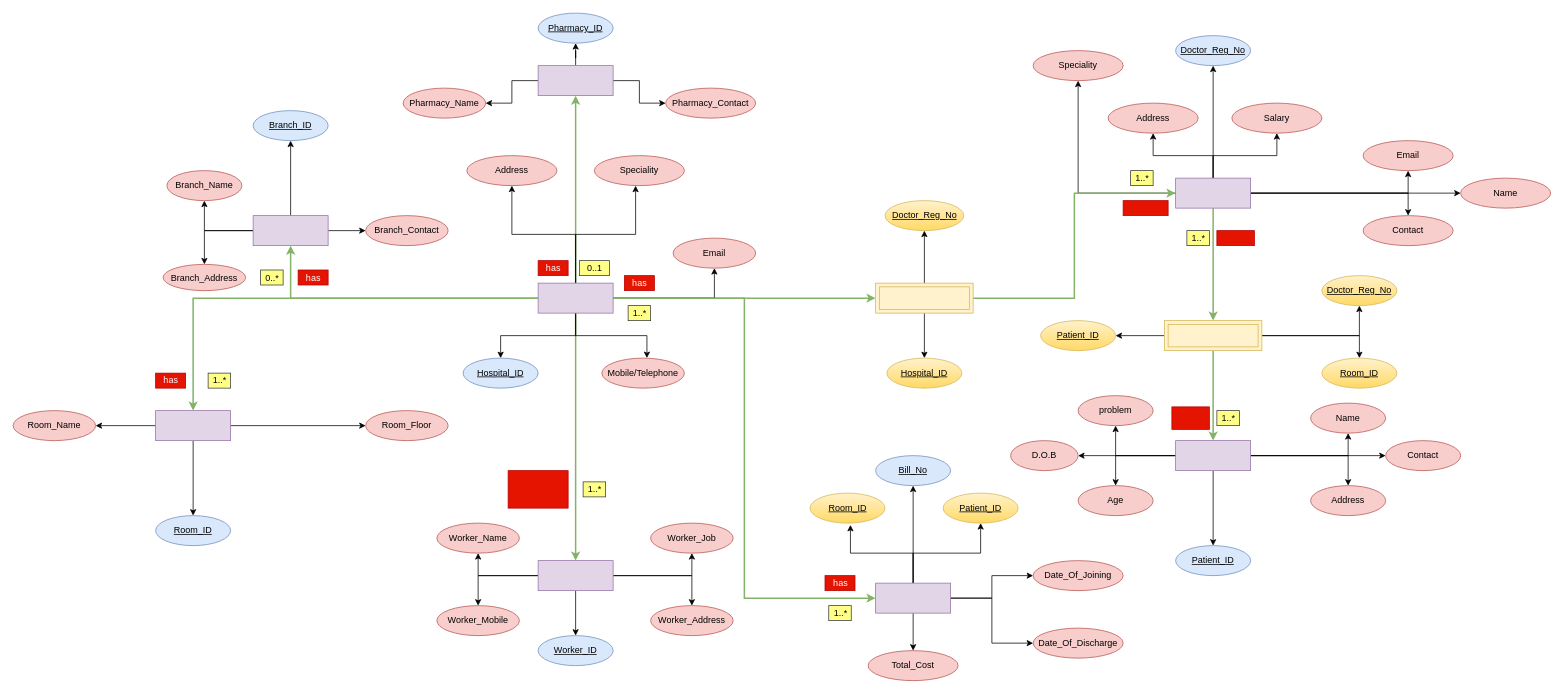
Some shapes in this 1564 by 694 pixel diagram are drawn without their labels. The shapes that lost their labels are listed below. From the top down, each one's centre as x and y in pixels, then its label:
At point 575,80: "Pharmacy".
At point 1145,208: "works for".
At point 1213,192: "Doctor".
At point 290,230: "HospitalBranch".
At point 1235,238: "treats".
At point 575,297: "Hospital".
At point 924,297: "Hospitals_Doctors".
At point 1213,335: "Doctors_Patients".
At point 193,425: "Rooms".
At point 1190,417: "treated by".
At point 1213,455: "Patients".
At point 537,489: "is maintained by".
At point 575,575: "Workers".
At point 913,597: "Bills".
